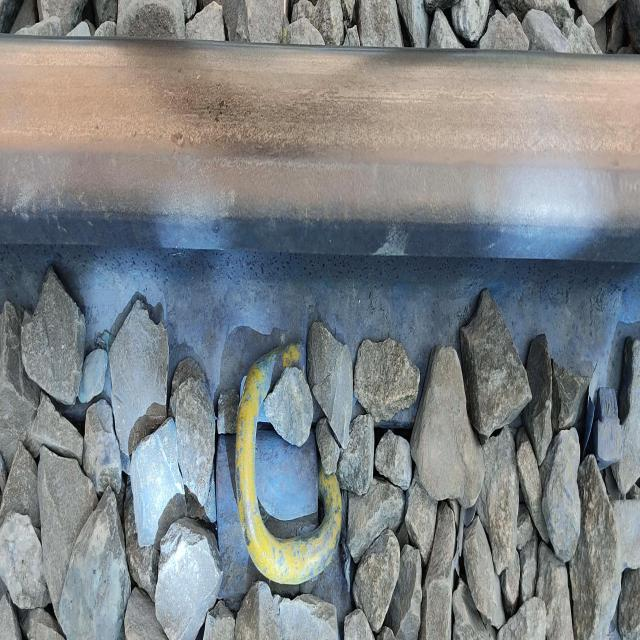Good Fasteners: (216, 344, 350, 611)
